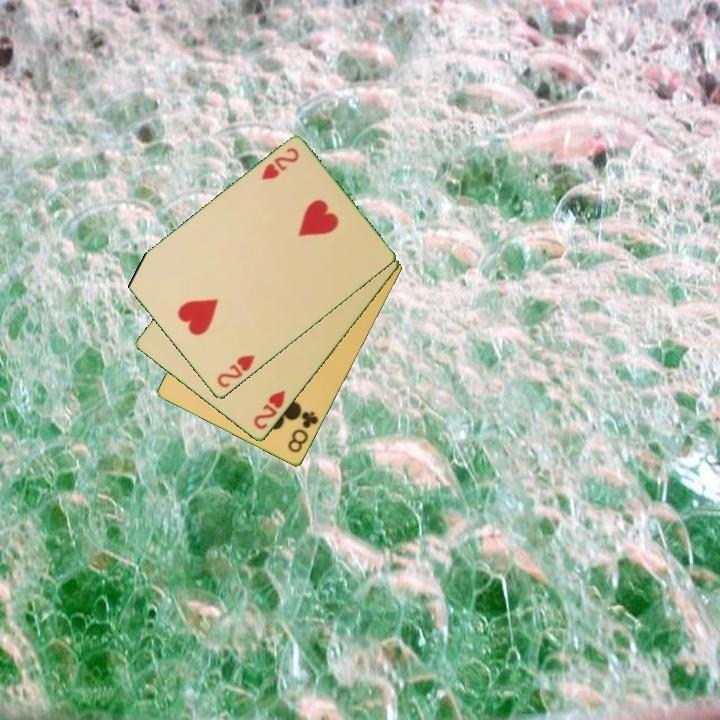2h: (213, 351, 258, 391), (250, 387, 288, 433), (258, 144, 302, 183)
8c: (284, 408, 321, 456)
